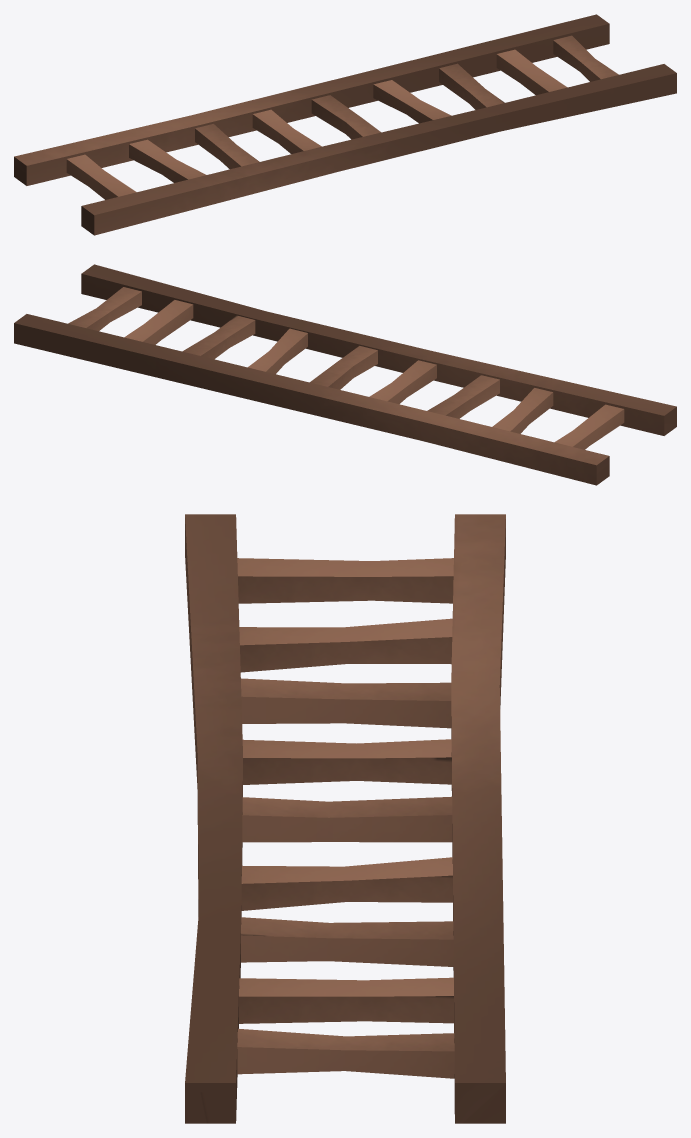
The model's file is ladder_mesh.fbx.
3 views of the same model, one above another, from view 1: azimuth 30°, elevation 25°; view 2: azimuth 150°, elevation 25°; view 3: azimuth 270°, elevation 25° (orthographic). The views are drawn at different scales.
Parts seen in each view (by area): view 1: ladder; view 2: ladder; view 3: ladder.
Part boxes in pixels (x1,y1,x2,y2): ladder: [14, 14, 676, 235]; ladder: [14, 264, 676, 485]; ladder: [185, 514, 505, 1123].
Size of the model in its own units: 265 by 8.81 by 63.13.
